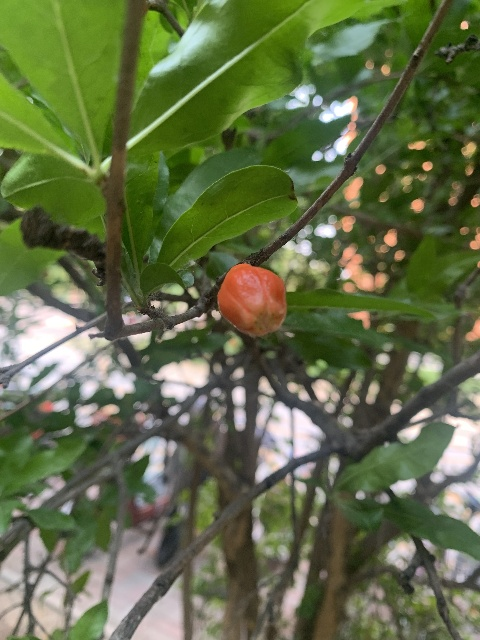bud: (218, 263, 287, 336)
